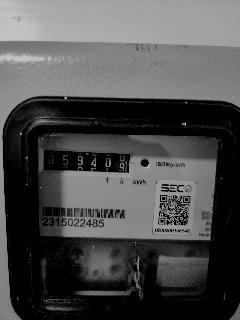1: (49, 156, 54, 165), (106, 158, 111, 167)
5: (92, 158, 97, 167)
6: (64, 156, 69, 165)
:: (78, 156, 83, 165), (120, 163, 125, 171)
